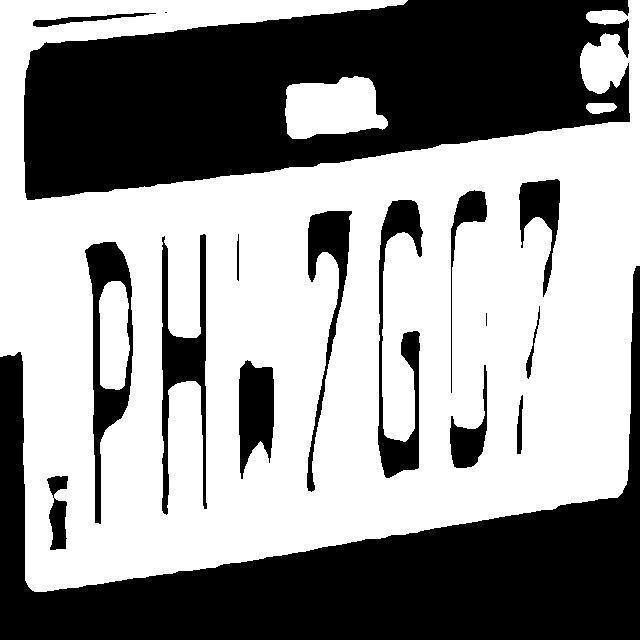0: (440, 183, 508, 488)
7: (510, 178, 590, 463), (292, 208, 366, 492)
g: (366, 194, 434, 492)
h: (148, 219, 222, 526)
p: (76, 230, 150, 524)
w: (225, 220, 290, 512)
